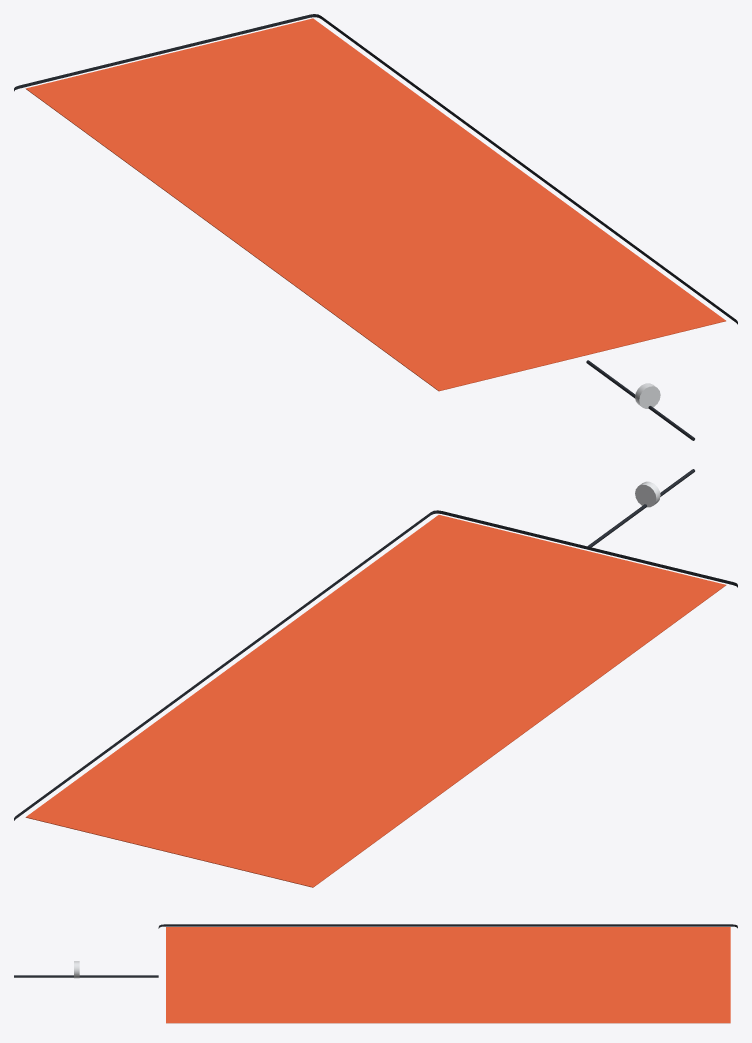
File: heat-mat-50x120.glb
3 views of the same model, one above another, from view 1: azimuth 30°, elevation 25°; view 2: azimuth 150°, elevation 25°; view 3: azimuth 270°, elevation 25° (orthographic). The views are drawn at different scales.
Parts seen in each view (by area): view 1: heat_element, mat_base; view 2: heat_element, mat_base; view 3: heat_element, mat_base, mat_lead.
Part boxes in pixels (left/top/right/bottom): heat_element: left=25, top=18, right=725, bottom=391; mat_base: left=14, top=14, right=737, bottom=324; heat_element: left=25, top=515, right=726, bottom=887; mat_base: left=14, top=510, right=737, bottom=820; heat_element: left=166, top=927, right=730, bottom=1023; mat_base: left=158, top=924, right=737, bottom=928; mat_lead: left=14, top=975, right=158, bottom=977.
Bounding box in the file's own units: 0.5 × 0.035 × 1.5.
